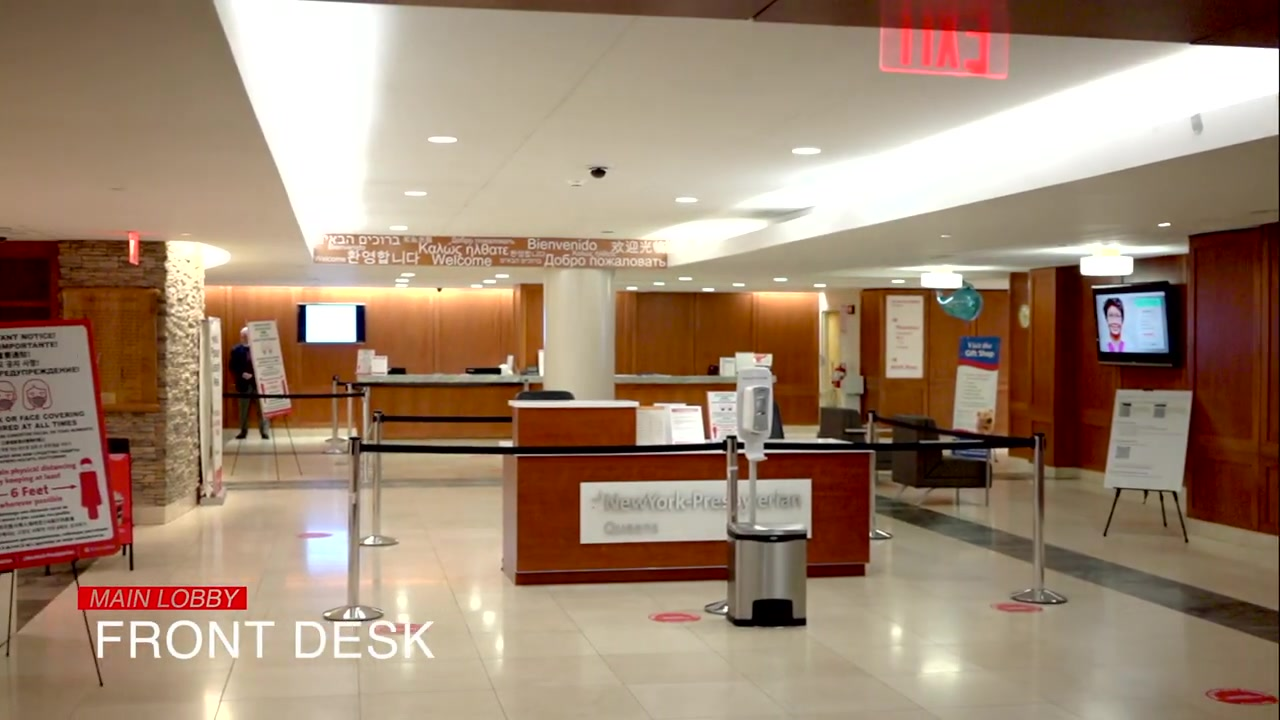TV: (1090, 280, 1184, 368), (295, 302, 366, 344)
chair: (514, 390, 574, 400)
counter: (506, 398, 871, 588), (357, 371, 544, 441), (614, 373, 780, 437)
dispenser: (740, 384, 777, 465)
person: (228, 326, 271, 439)
sofa: (892, 414, 993, 489), (816, 406, 892, 471)
waste_bin: (725, 521, 809, 629)
